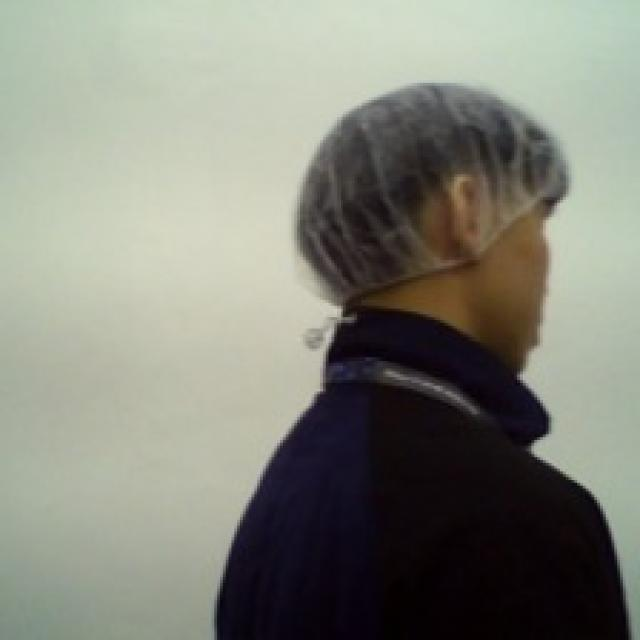gloves: (288, 80, 579, 310)
